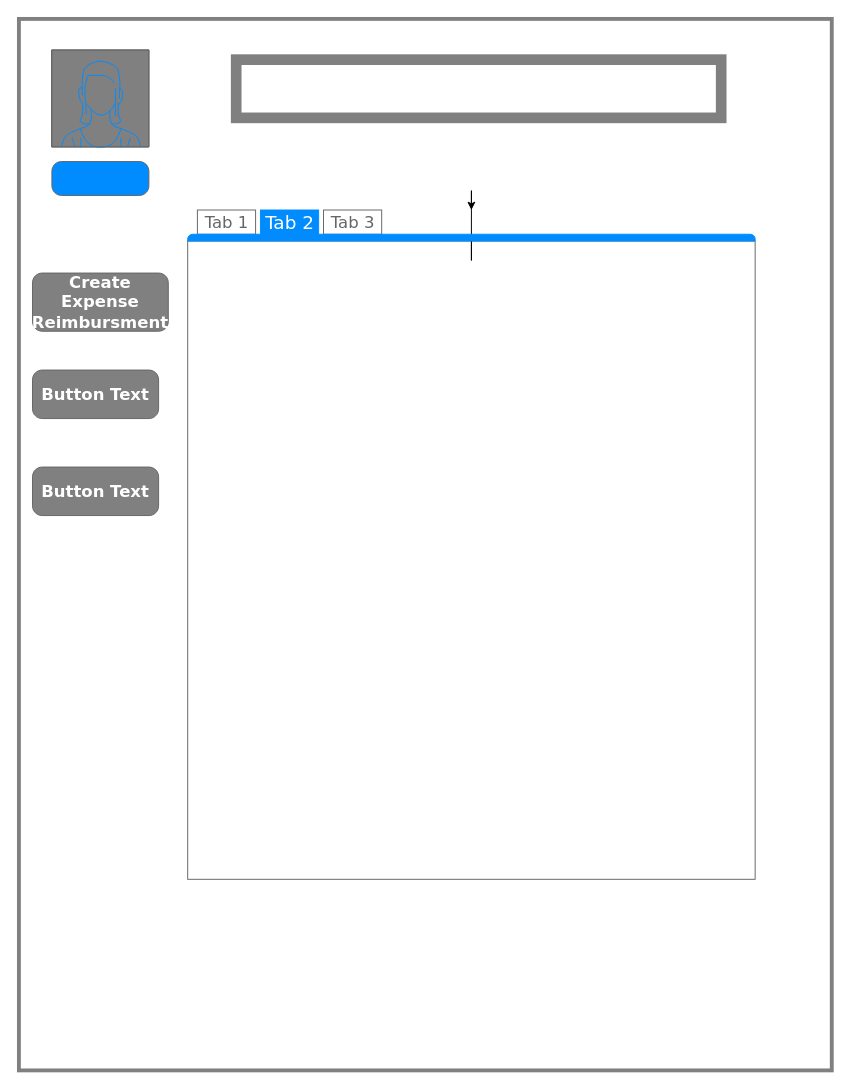
The diagram is 850 pixels wide and 1088 high, and some of its shapes have lost their labels. Here are the shapes that lost their labels. From the top down, the centre of each, then its label:
At pixel 478 88: "Expense Report Home Page".
At pixel 100 178: "Log out".
